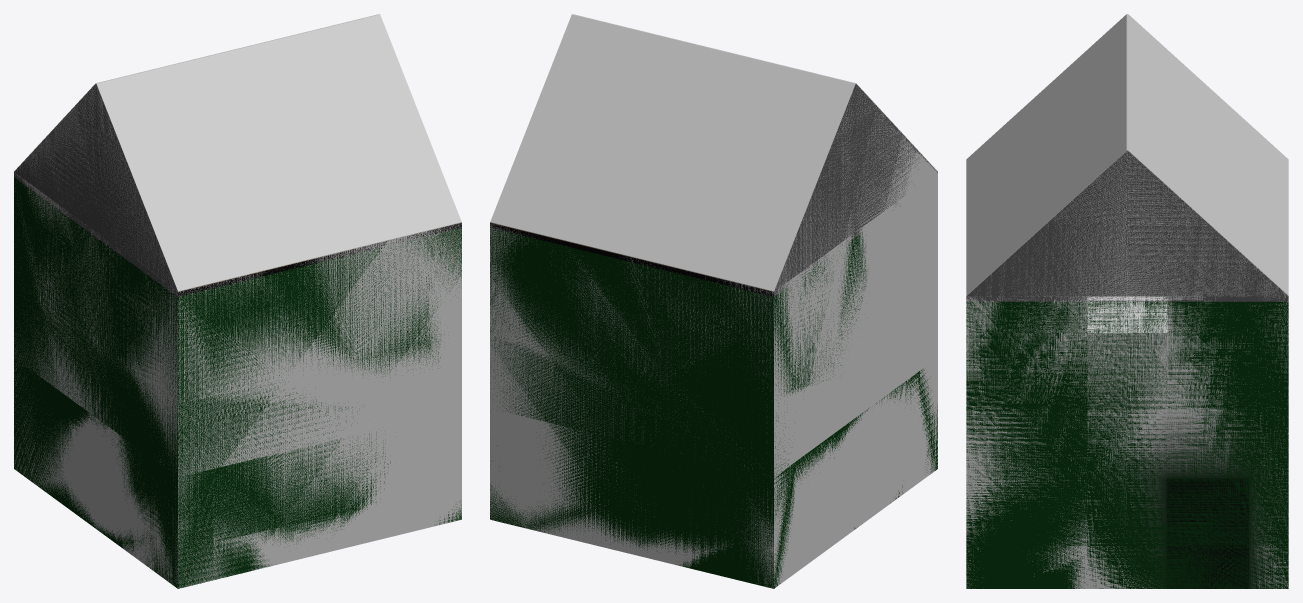
The model's file is level-1.fbx.
3 renders of one model, left to right at view 1: azimuth 30°, elevation 25°; view 2: azimuth 150°, elevation 25°; view 3: azimuth 270°, elevation 25°, orthographic.
Parts seen in each view (by area): view 1: Cube, main, roof; view 2: Cube, main, roof; view 3: Cube, roof, main.
Boxes of the visible parts, x1=… form: Cube: x1=14, y1=84, x2=461, y2=588; main: x1=14, y1=173, x2=461, y2=588; roof: x1=14, y1=14, x2=461, y2=291; Cube: x1=490, y1=84, x2=937, y2=588; main: x1=490, y1=172, x2=937, y2=588; roof: x1=490, y1=14, x2=937, y2=291; Cube: x1=966, y1=150, x2=1288, y2=588; roof: x1=966, y1=14, x2=1288, y2=296; main: x1=966, y1=296, x2=1288, y2=588.
Size of the model in its own units: 200 by 300 by 200.
